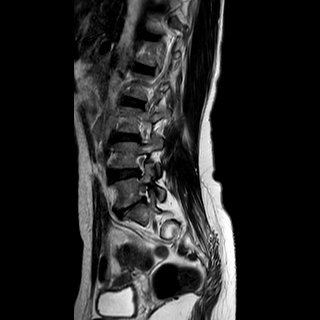RFS0: (129, 146, 151, 179)
RFS1: (134, 180, 158, 206)
